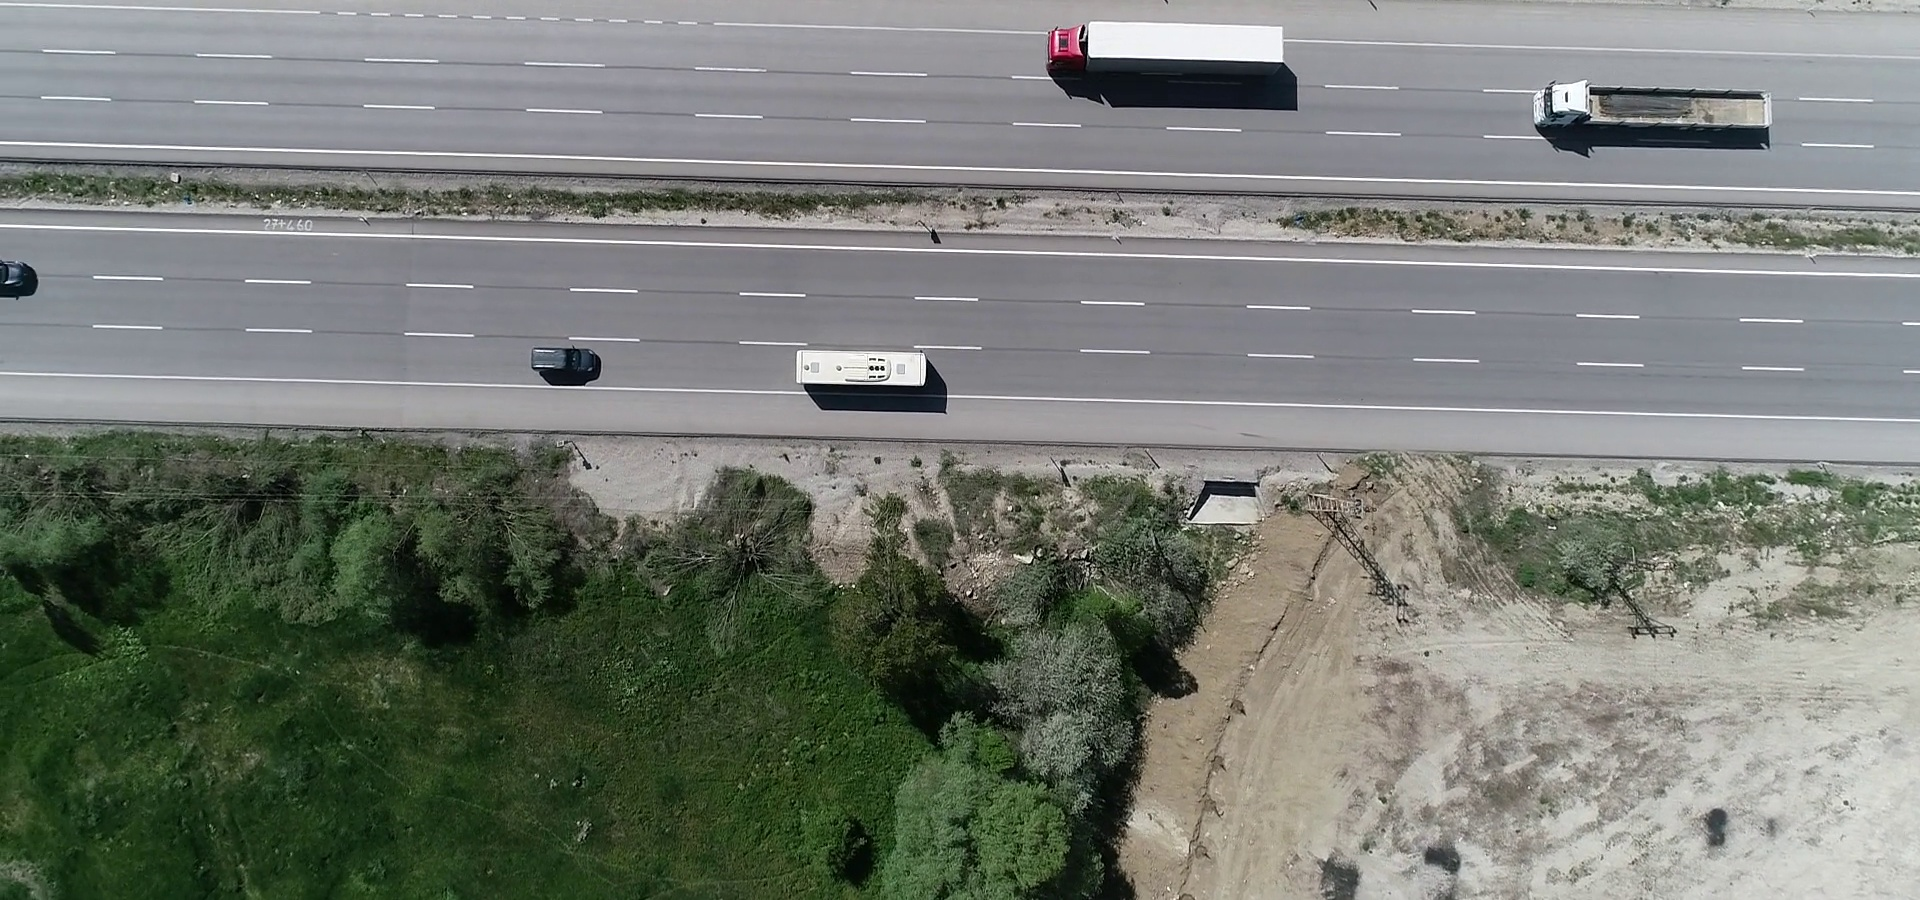araba: (523, 343, 601, 381), (1, 262, 42, 299)
kamyon: (1044, 16, 1297, 87), (1536, 78, 1773, 144)
otobus: (782, 338, 944, 394)
